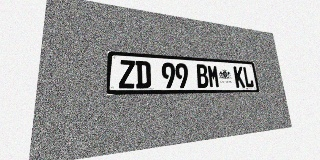9: (161, 62, 176, 88), (175, 63, 189, 88)
B: (196, 64, 209, 88)
D: (135, 61, 151, 88)
K: (233, 66, 245, 88)
L: (242, 67, 254, 87)
M: (207, 65, 220, 88)
Z: (119, 60, 135, 88)
